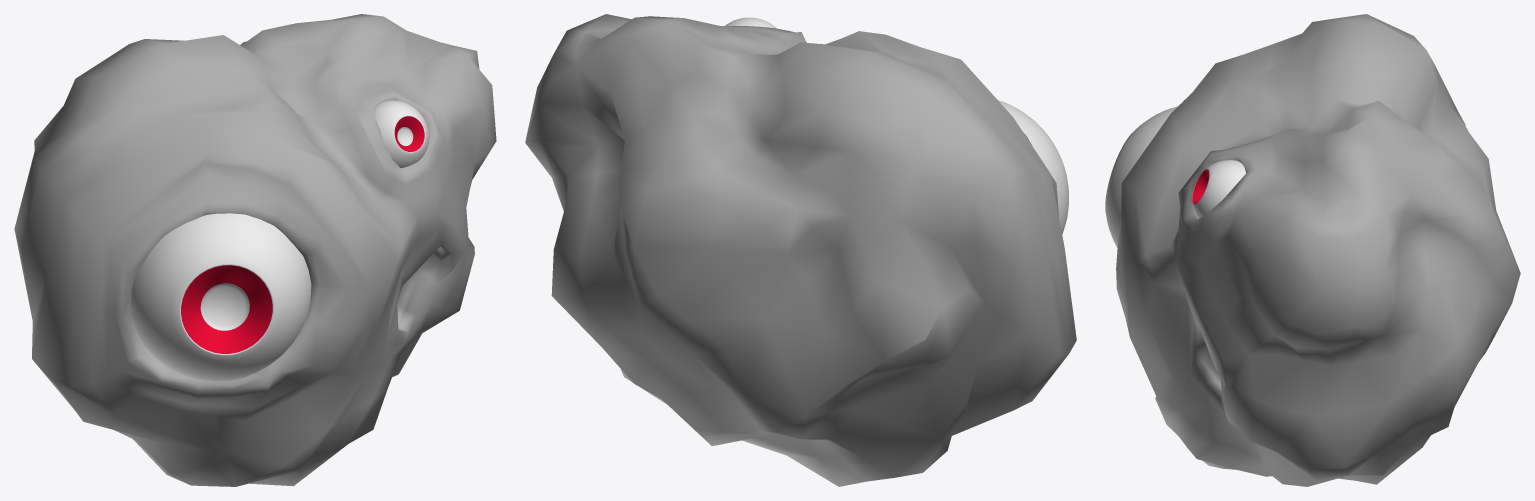
Rendered from Asteroid3_Mesh.fbx.
3 renders of one model, left to right at view 1: azimuth 30°, elevation 25°; view 2: azimuth 150°, elevation 25°; view 3: azimuth 270°, elevation 25°, orthographic. The views are drawn at different scales.
Visible parts, largest first — view 1: polySurface14; view 2: polySurface14; view 3: polySurface14.
Part boxes in pixels (box(x1,y1,x2,y2)): polySurface14: box(14, 14, 496, 486); polySurface14: box(525, 14, 1076, 486); polySurface14: box(1105, 14, 1520, 486).
Size of the model in its own units: 175 by 151 by 132.
